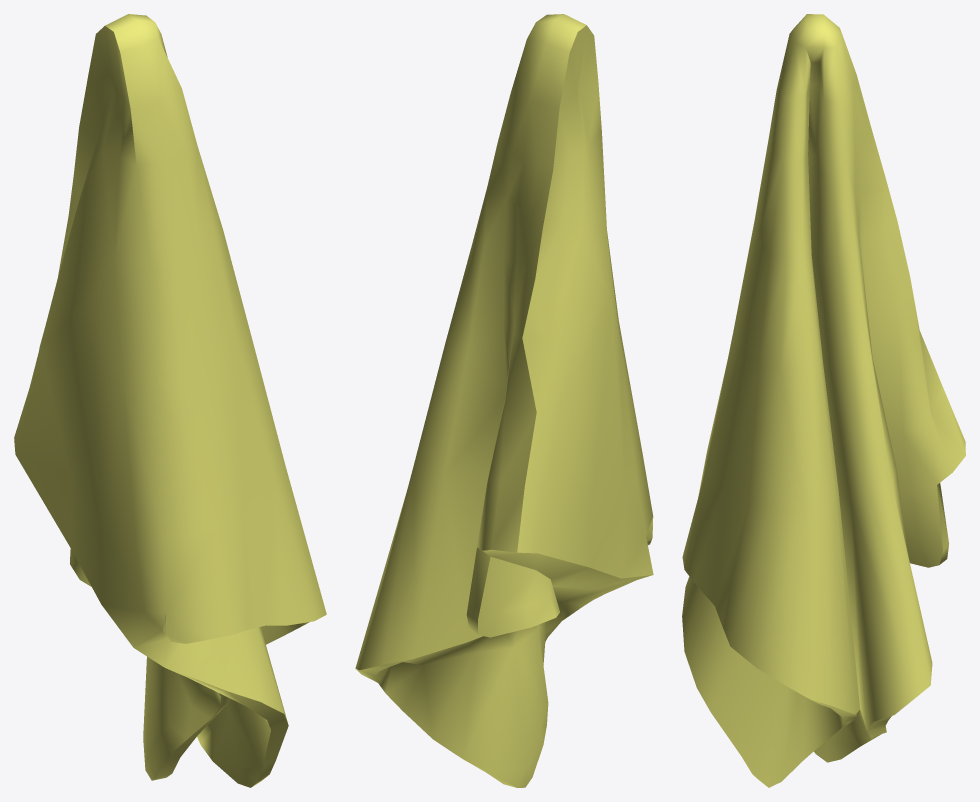
File: Mesh_Enviro_Towel.fbx
3 views of the same model, side by side, from view 1: azimuth 30°, elevation 25°; view 2: azimuth 150°, elevation 25°; view 3: azimuth 270°, elevation 25° (orthographic). The views are drawn at different scales.
Parts seen in each view (by area): view 1: Towel_A; view 2: Towel_A; view 3: Towel_A.
Boxes of the visible parts, x1,y1,x2,y2 form: Towel_A: (14,14,326,787); Towel_A: (355,14,653,787); Towel_A: (682,14,965,787).
Size of the model in its own units: 12.62 by 41.48 by 14.72.
